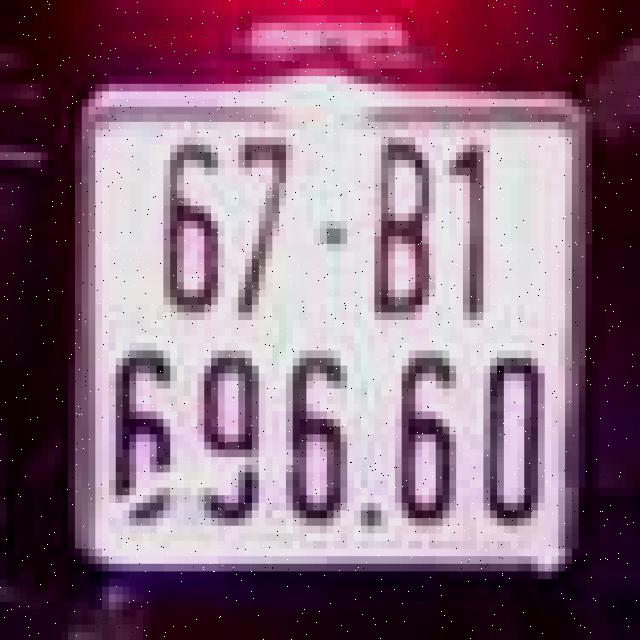0: (473, 347, 562, 537)
1: (450, 137, 490, 335)
6: (385, 339, 466, 530), (156, 130, 224, 335), (286, 336, 347, 534), (116, 347, 184, 514)
7: (235, 122, 303, 343)
9: (198, 346, 272, 530)
B: (364, 122, 439, 328)
